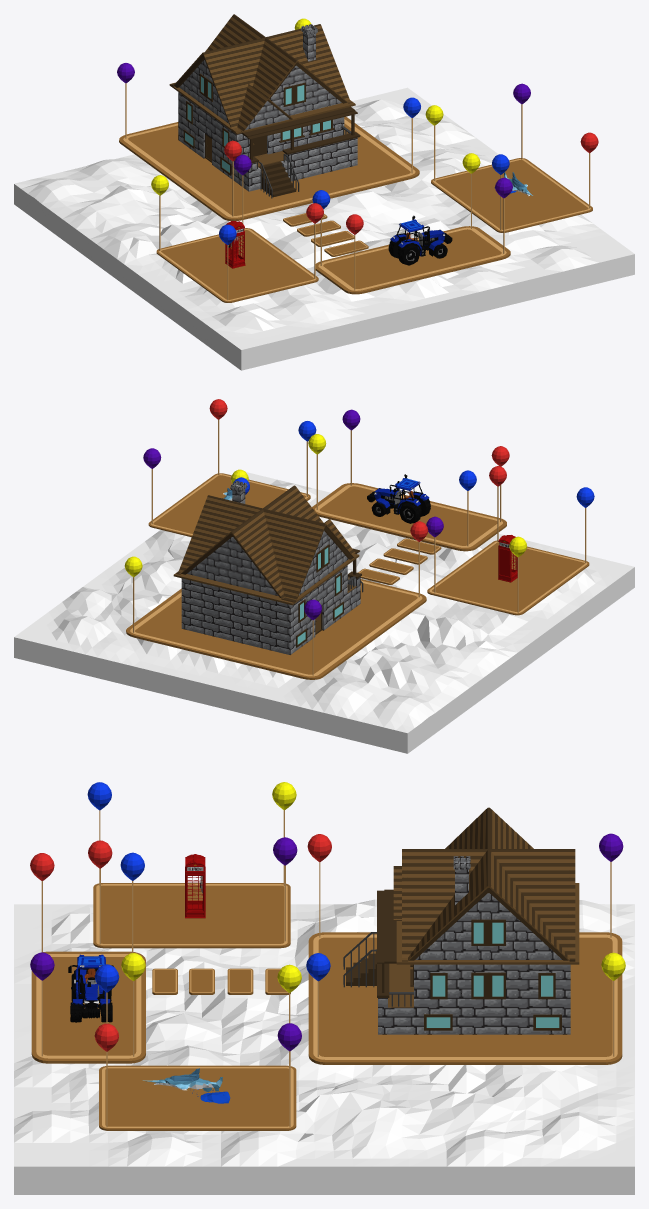
The picture shows the model from 3 angles, top to bottom: view 1: azimuth 30°, elevation 25°; view 2: azimuth 150°, elevation 25°; view 3: azimuth 270°, elevation 25°; orthographic projection. The views are drawn at different scales.
Parts seen in each view (by area): view 1: Cube.013, Cube.586, VEHICLES_TRACTOR, OBJRANDOM_PHONEBOOTH; view 2: Cube.013, Cube.586, VEHICLES_TRACTOR, OBJRANDOM_PHONEBOOTH; view 3: Cube.013, Cube.586, VEHICLES_TRACTOR, OBJRANDOM_PHONEBOOTH, ANIMAL_PEZ_ESPADA.
Boxes of the visible parts, x1=… form: Cube.013: x1=14, y1=18, x2=634, y2=370; Cube.586: x1=169, y1=14, x2=360, y2=198; VEHICLES_TRACTOR: x1=388, y1=215, x2=452, y2=265; OBJRANDOM_PHONEBOOTH: x1=225, y1=221, x2=245, y2=268; Cube.013: x1=14, y1=399, x2=634, y2=753; Cube.586: x1=173, y1=481, x2=363, y2=654; VEHICLES_TRACTOR: x1=367, y1=474, x2=430, y2=523; OBJRANDOM_PHONEBOOTH: x1=498, y1=535, x2=517, y2=582; Cube.013: x1=14, y1=782, x2=634, y2=1194; Cube.586: x1=343, y1=807, x2=579, y2=1034; VEHICLES_TRACTOR: x1=68, y1=954, x2=113, y2=1022; OBJRANDOM_PHONEBOOTH: x1=185, y1=854, x2=205, y2=918; ANIMAL_PEZ_ESPADA: x1=143, y1=1068, x2=230, y2=1103.
Size of the model in its own units: 4000 by 1675 by 4000.
Materials: 40 (2 with a texture image).
